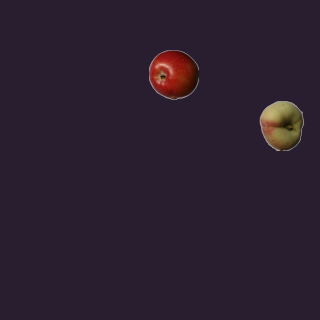Apple Braeburn: (148, 49, 198, 99)
Peach Flat: (256, 100, 306, 150)
